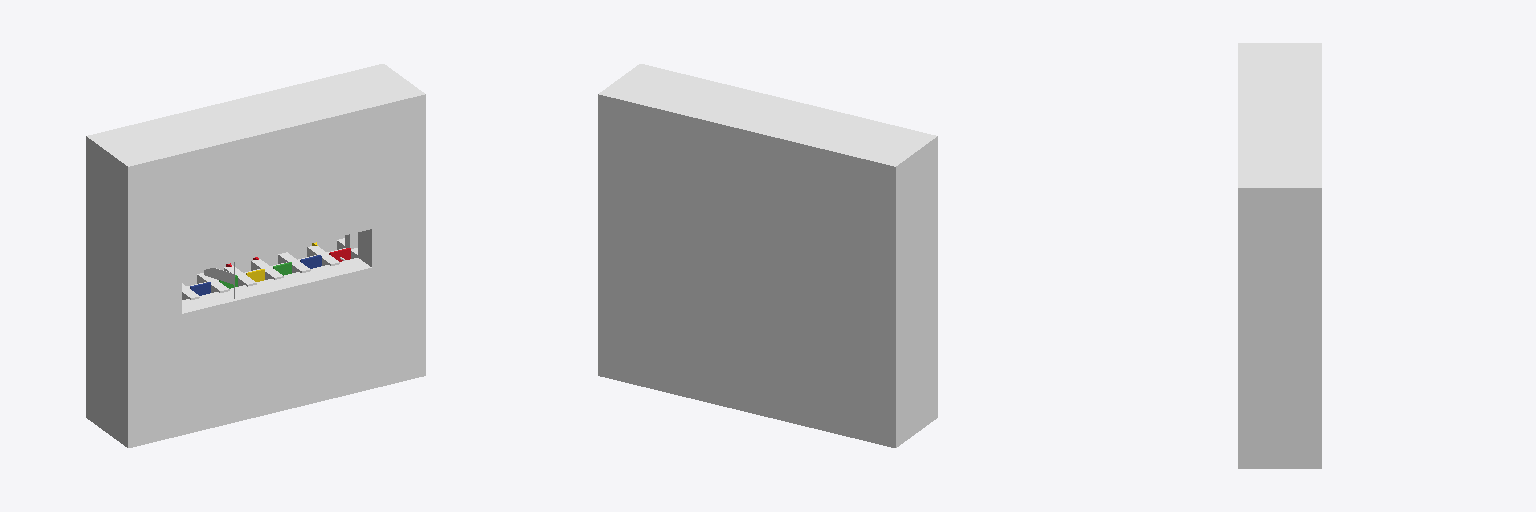
The picture shows the model from 3 angles: view 1: azimuth 30°, elevation 25°; view 2: azimuth 150°, elevation 25°; view 3: azimuth 270°, elevation 25°; orthographic projection.
Parts seen in each view (by area): view 1: obj_0; view 2: obj_0; view 3: obj_0.
Part boxes in pixels (x1,y1,x2,y2): obj_0: (86,64,425,447); obj_0: (598,64,937,447); obj_0: (1238,43,1321,468).
Bounding box in the file's own units: 584 × 528 × 143.